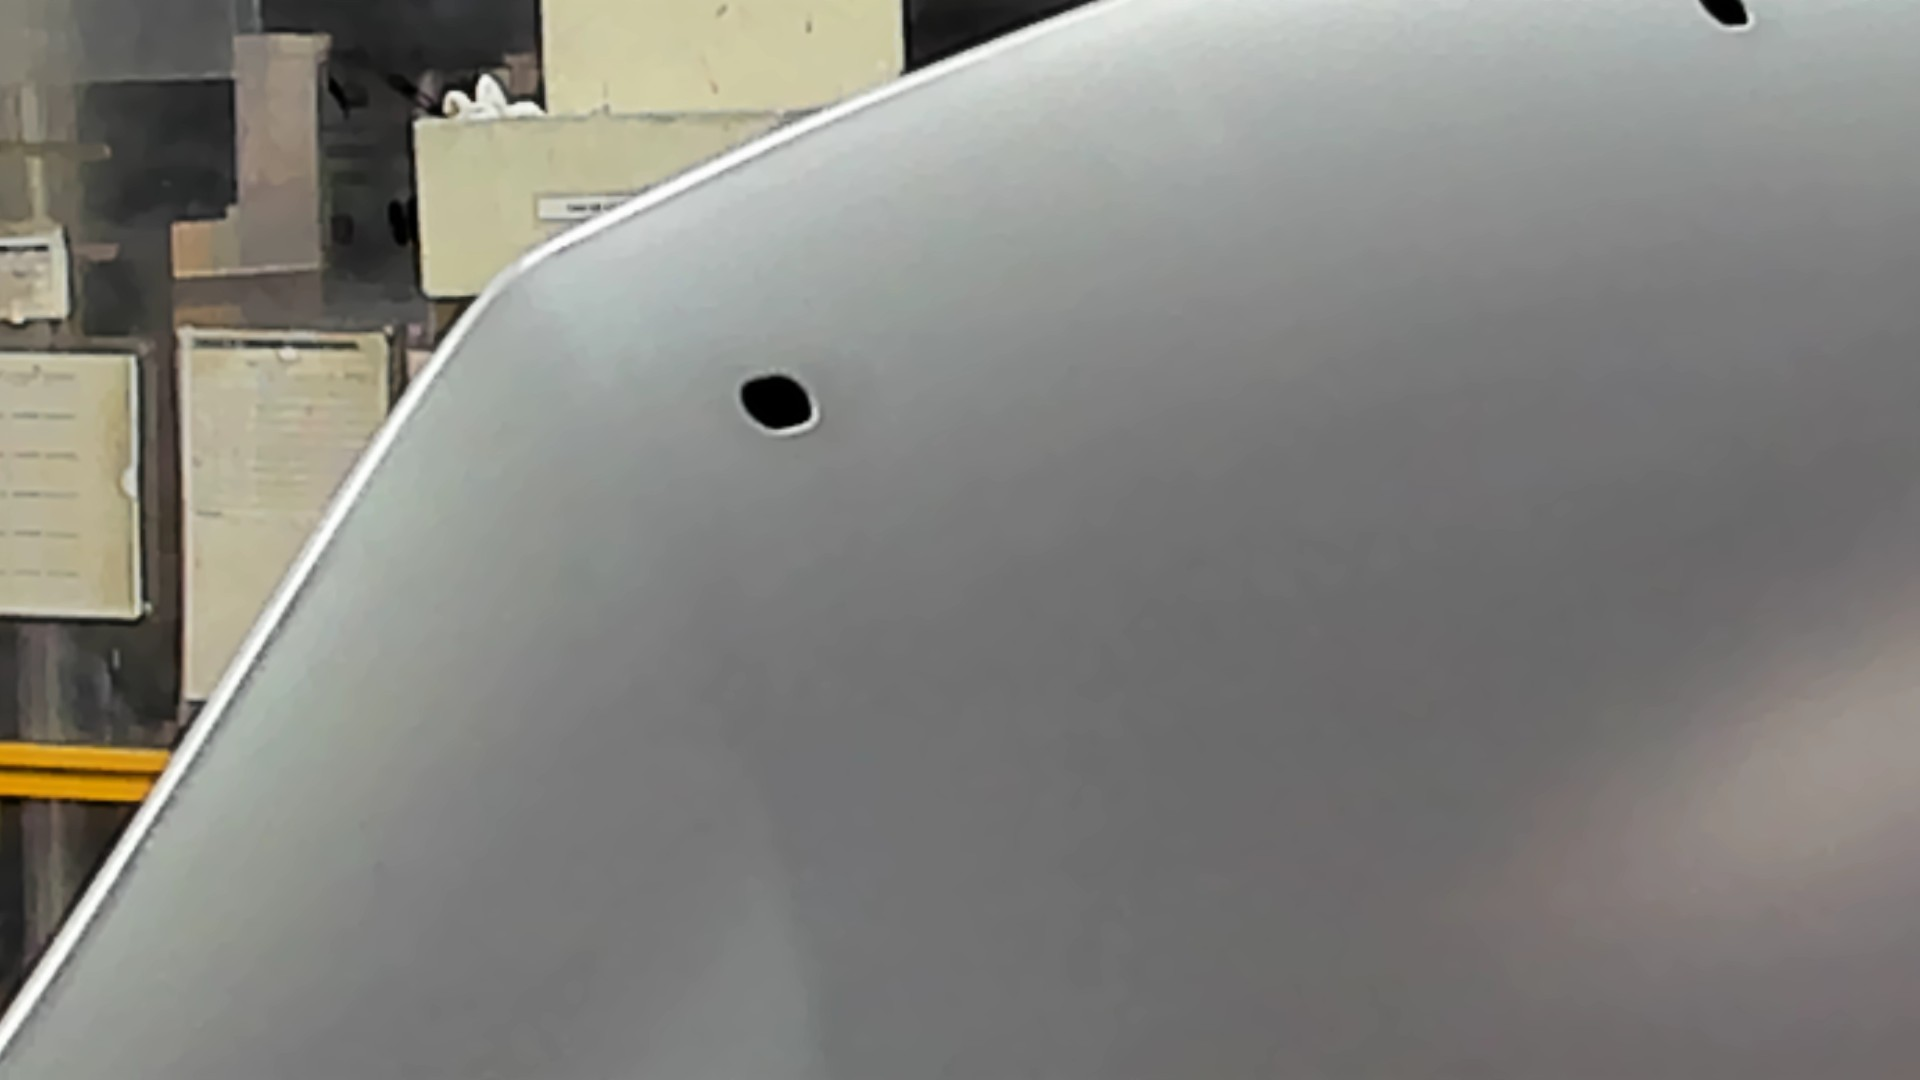amorfo: (735, 368, 828, 440), (1691, 1, 1764, 40)
capo: (927, 107, 1920, 1080)
